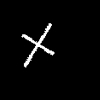single_crochet: (22, 24, 53, 66)
